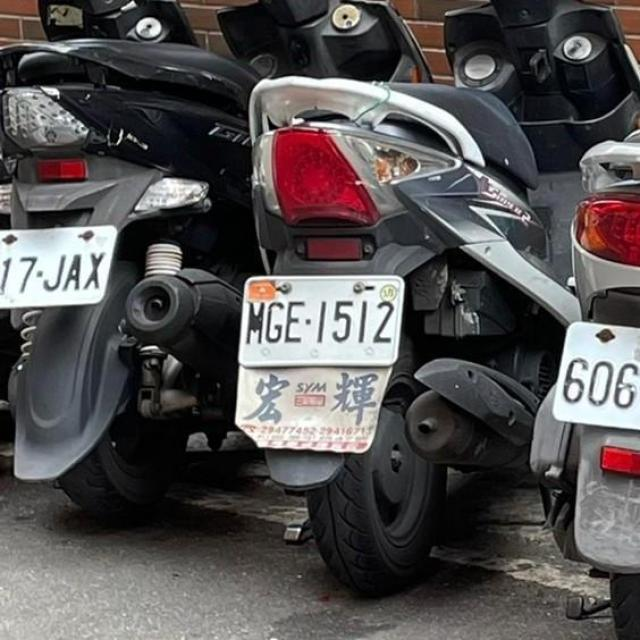W: (232, 264, 416, 378), (540, 311, 640, 446), (0, 220, 125, 317)
